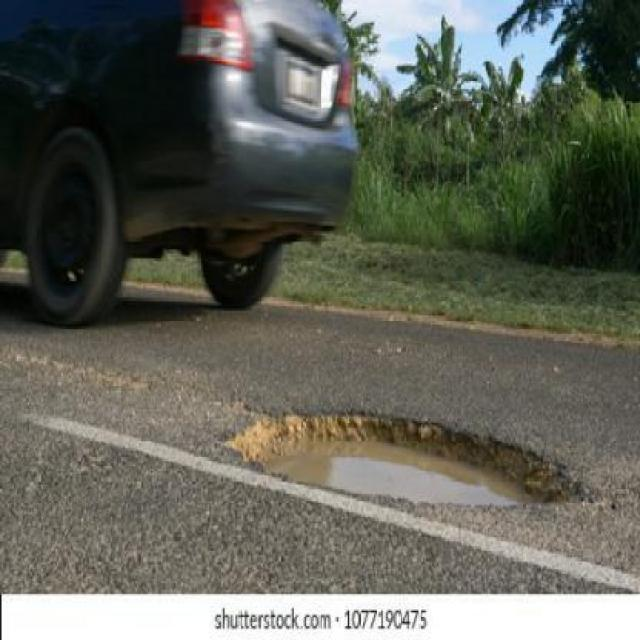Buraco: (204, 394, 610, 516)
